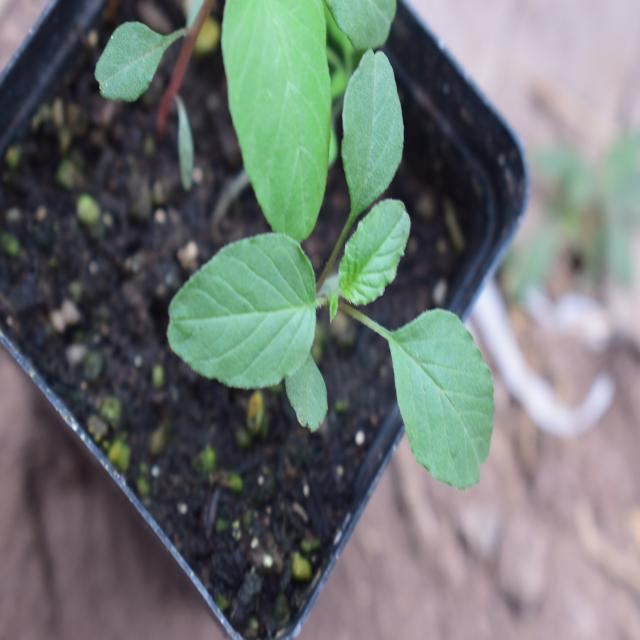pigweed: (165, 38, 502, 496)
